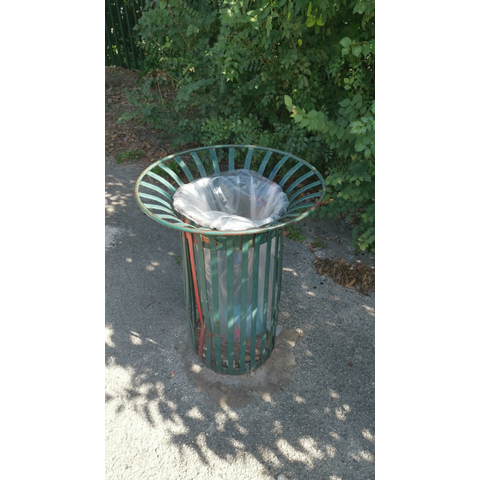poubelle: (135, 126, 333, 381)
